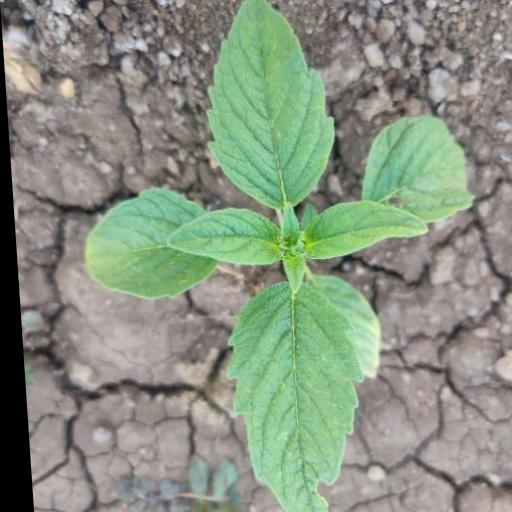crop: (54, 3, 481, 512)
